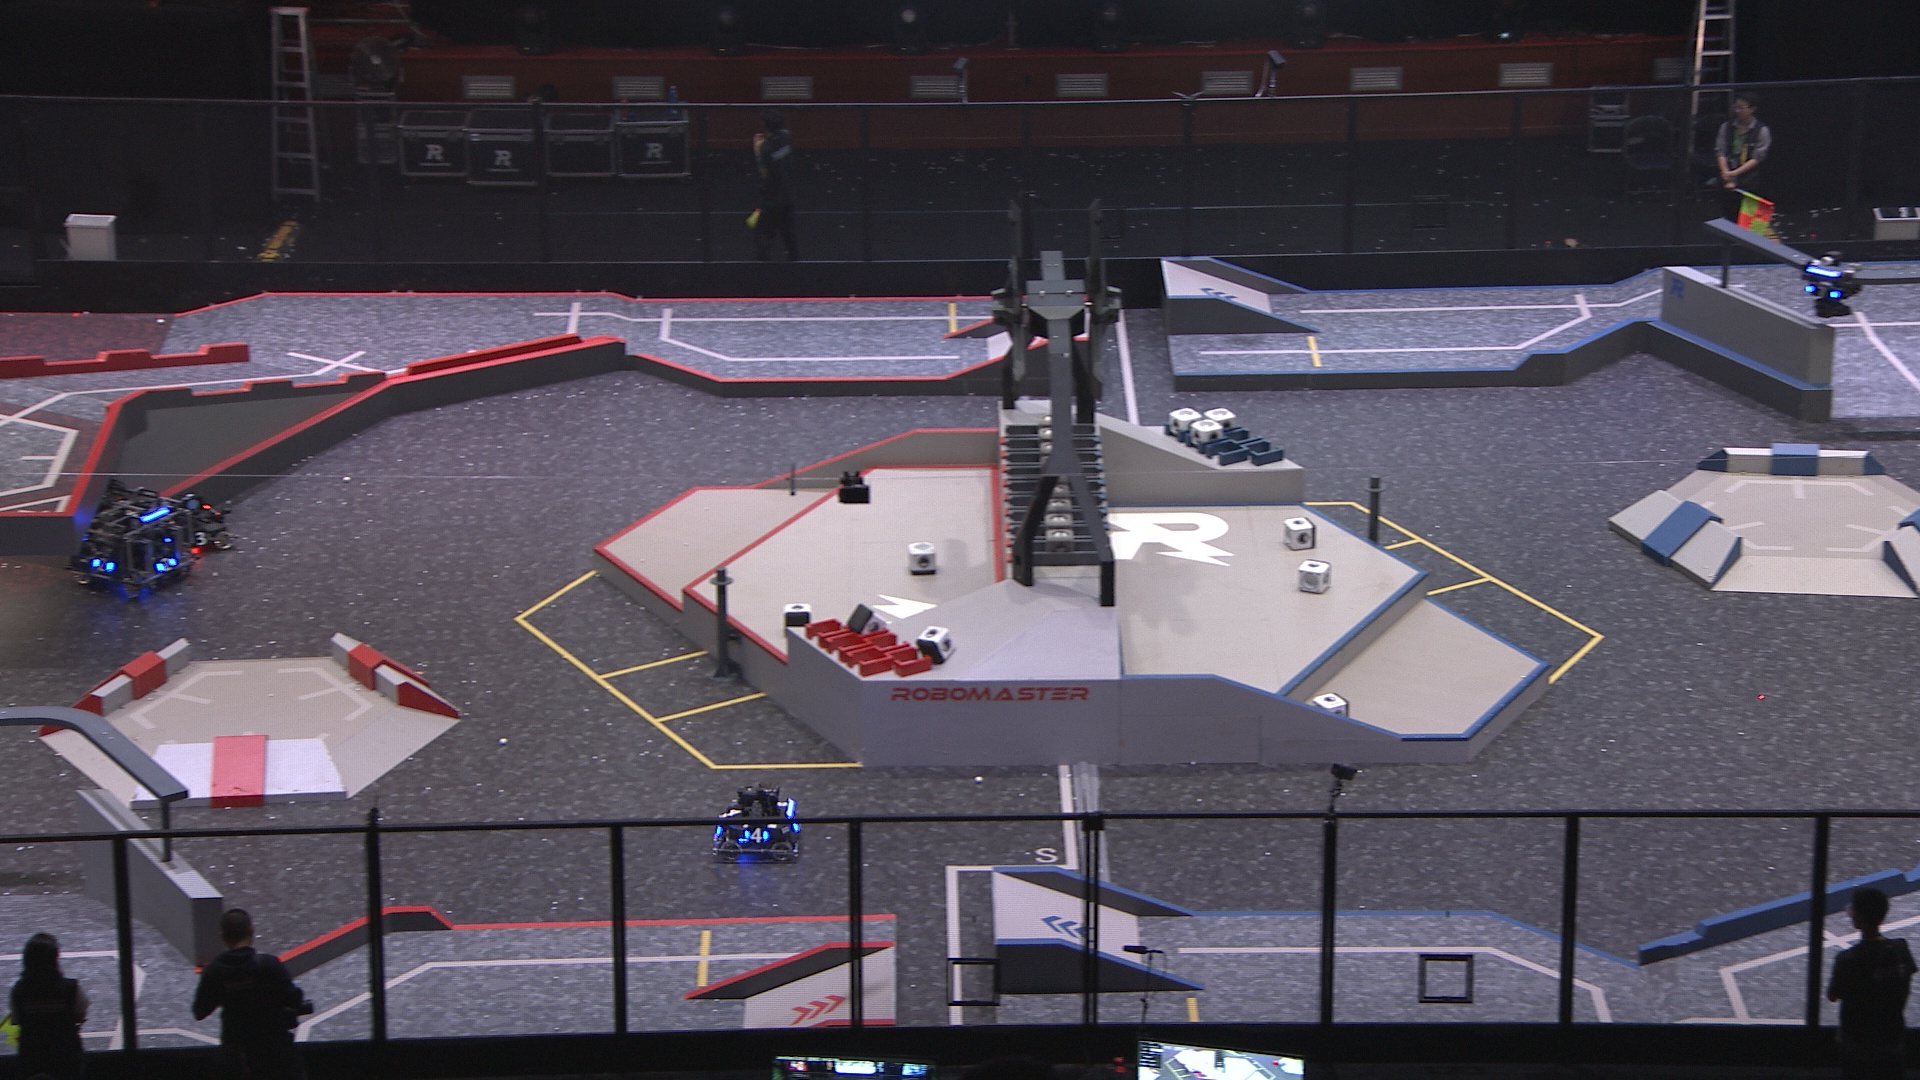armor: (1807, 281, 1842, 299), (90, 556, 117, 576), (152, 555, 181, 574), (741, 828, 771, 843), (727, 803, 742, 825), (189, 531, 211, 546)
car: (58, 489, 190, 597), (716, 783, 807, 864), (152, 487, 233, 560)
watcher: (1803, 251, 1869, 319)
